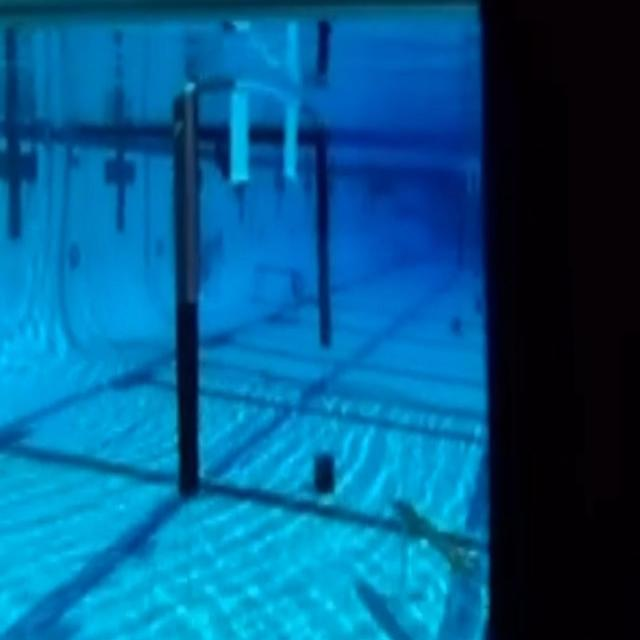Gate: (173, 96, 371, 506)
